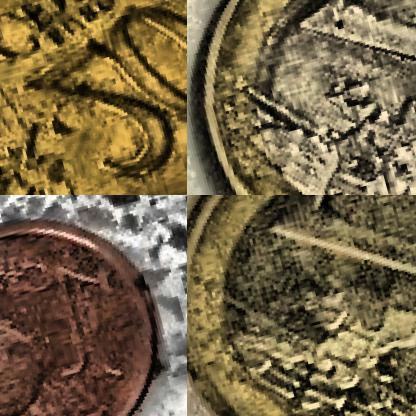coin: (187, 195, 415, 415), (187, 0, 415, 194), (0, 195, 180, 415), (0, 0, 186, 194)
